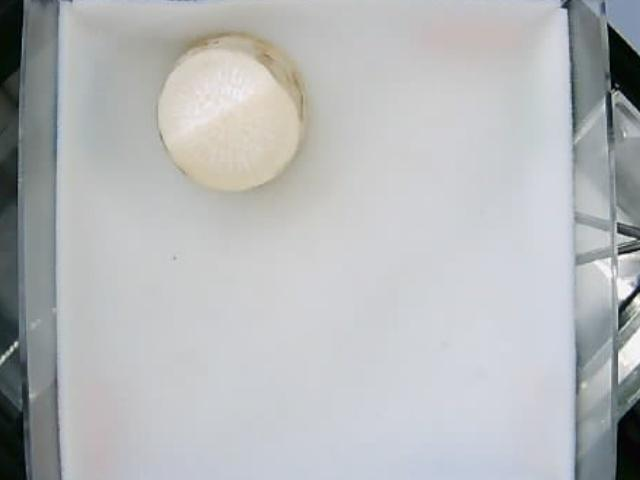Mooli: (159, 31, 306, 189)
